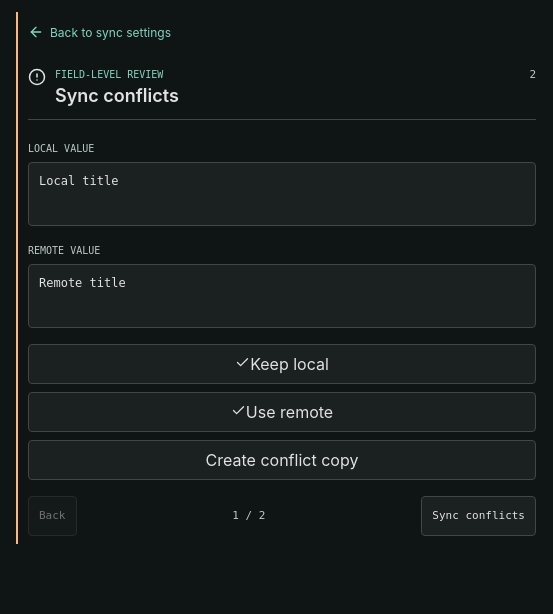
it: removes a resolved conflict and reports the refreshed current item
Click the button "Keep local".
click(282, 364)  # box top-left (28, 344), bottom-right (536, 384)
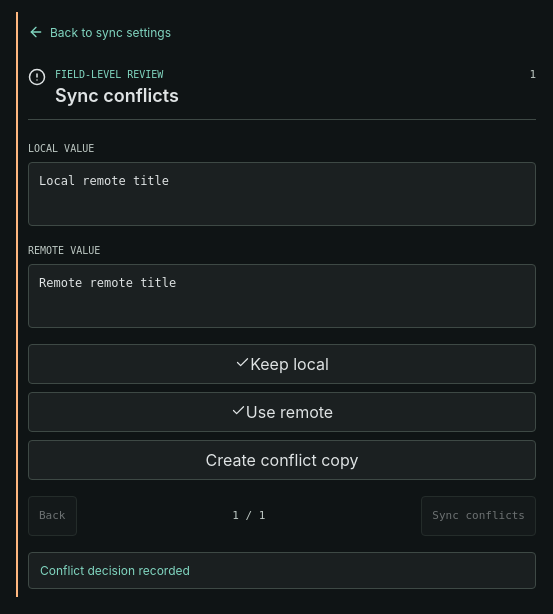
Expected: the text "Local title" is gone
Expected: the text "Local remote title" is shown, top-left (28, 162), bottom-right (536, 226)
Expected: the text "1 / 1" is shown, top-left (232, 509), bottom-right (265, 523)
